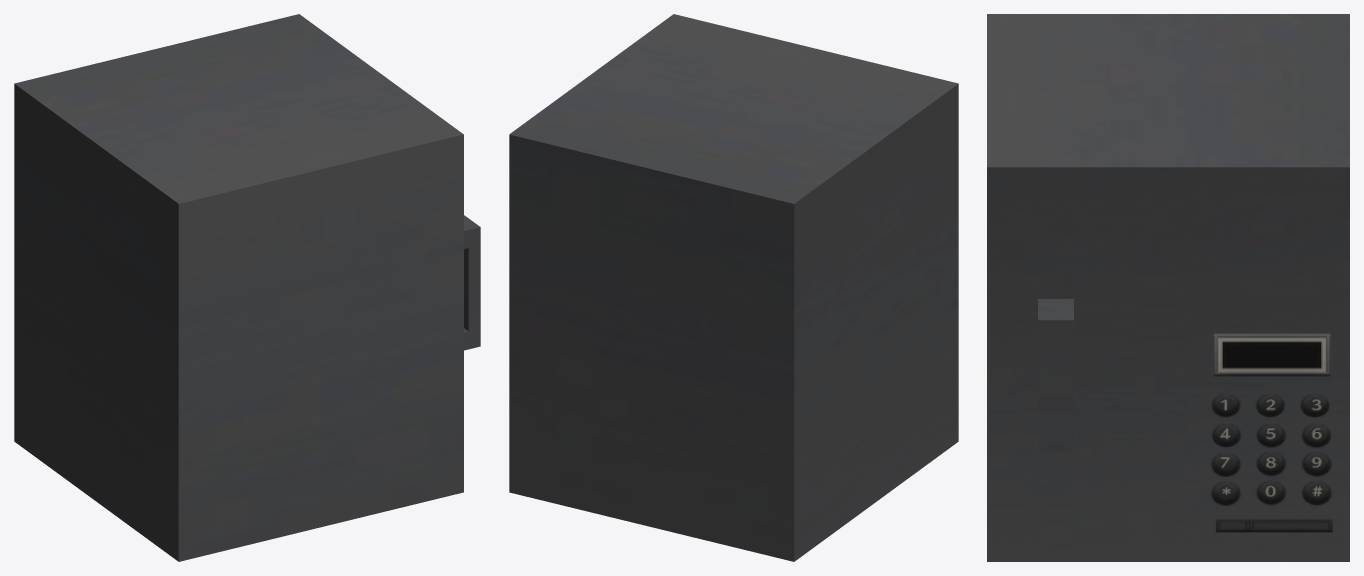
Rendered from safe_box.fbx.
3 renders of one model, left to right at view 1: azimuth 30°, elevation 25°; view 2: azimuth 150°, elevation 25°; view 3: azimuth 270°, elevation 25°, orthographic. The views are drawn at different scales.
Visible parts, largest first — view 1: safe_box.001; view 2: safe_box.001; view 3: safe_box.001.
Boxes of the visible parts, x1=… form: safe_box.001: x1=14, y1=14, x2=480, y2=561; safe_box.001: x1=509, y1=14, x2=958, y2=561; safe_box.001: x1=987, y1=14, x2=1349, y2=561.
Bounding box in the file's own units: 0.6318 × 0.6651 × 0.5542.
Materials: 1 (1 with a texture image).
